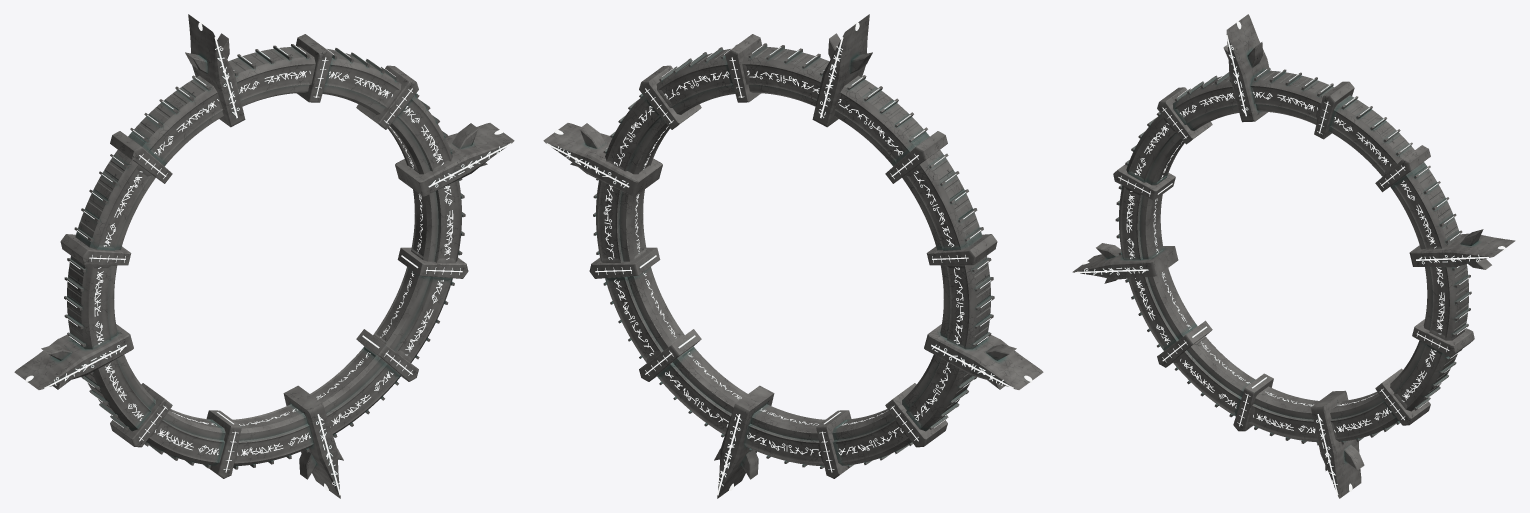
File: ancient_gate.glb
The picture shows the model from 3 angles, left to right: view 1: azimuth 30°, elevation 25°; view 2: azimuth 150°, elevation 25°; view 3: azimuth 330°, elevation 25°; orthographic projection. The views are drawn at different scales.
Visible parts, largest first — view 1: Gate_Seg_2, Gate_Seg_1, Gate_Seg_8, Gate_Seg_3, Gate_Seg_7, Gate_Seg_0, Gate_Pylon_1, Gate_Seg_9, Gate_Seg_6, Gate_Pylon_3, Gate_Seg_11, Gate_Seg_5 (+12 smaller); view 2: Gate_Seg_2, Gate_Seg_1, Gate_Seg_8, Gate_Seg_3, Gate_Seg_7, Gate_Seg_0, Gate_Pylon_1, Gate_Pylon_3, Gate_Seg_6, Gate_Seg_9, Gate_Seg_11, Gate_Seg_5 (+12 smaller); view 3: Gate_Seg_11, Gate_Seg_10, Gate_Seg_5, Gate_Seg_4, Gate_Seg_0, Gate_Seg_9, Gate_Pylon_0, Gate_Seg_3, Gate_Pylon_2, Gate_Seg_6, Gate_Seg_8, Gate_Seg_2 (+12 smaller).
Boxes of the visible parts, bbox=[...] form: Gate_Seg_2: bbox=[74, 150, 155, 251]; Gate_Seg_1: bbox=[128, 75, 223, 166]; Gate_Seg_8: bbox=[373, 267, 454, 362]; Gate_Seg_3: bbox=[64, 256, 117, 349]; Gate_Seg_7: bbox=[310, 346, 400, 437]; Gate_Seg_0: bbox=[228, 44, 315, 106]; Gate_Pylon_1: bbox=[14, 324, 133, 389]; Gate_Seg_9: bbox=[411, 178, 465, 262]; Gate_Seg_6: bbox=[233, 404, 313, 469]; Gate_Pylon_3: bbox=[395, 123, 514, 196]; Gate_Seg_11: bbox=[322, 46, 401, 114]; Gate_Seg_5: bbox=[144, 409, 225, 468]; Gate_Seg_2: bbox=[902, 150, 983, 251]; Gate_Seg_1: bbox=[834, 75, 929, 166]; Gate_Seg_8: bbox=[603, 267, 684, 362]; Gate_Seg_3: bbox=[940, 256, 994, 349]; Gate_Seg_7: bbox=[657, 346, 747, 437]; Gate_Seg_0: bbox=[742, 43, 829, 106]; Gate_Pylon_1: bbox=[924, 324, 1043, 389]; Gate_Pylon_3: bbox=[543, 123, 662, 196]; Gate_Seg_6: bbox=[744, 404, 824, 468]; Gate_Seg_9: bbox=[593, 178, 646, 262]; Gate_Seg_11: bbox=[656, 44, 737, 114]; Gate_Seg_5: bbox=[832, 409, 912, 467]; Gate_Seg_11: bbox=[1328, 95, 1414, 176]; Gate_Seg_10: bbox=[1390, 162, 1462, 249]; Gate_Seg_5: bbox=[1173, 336, 1255, 417]; Gate_Seg_4: bbox=[1125, 268, 1197, 350]; Gate_Seg_0: bbox=[1250, 68, 1334, 124]; Gate_Seg_9: bbox=[1423, 264, 1471, 340]; Gate_Pylon_0: bbox=[1223, 14, 1269, 122]; Gate_Seg_3: bbox=[1115, 185, 1163, 260]; Gate_Pylon_2: bbox=[1311, 390, 1364, 498]; Gate_Seg_6: bbox=[1248, 386, 1318, 445]; Gate_Seg_8: bbox=[1390, 340, 1462, 411]; Gate_Seg_2: bbox=[1125, 112, 1184, 185].
Size of the model in its own units: 1008 by 1008 by 97.8.
Materials: 2 (1 with a texture image).
